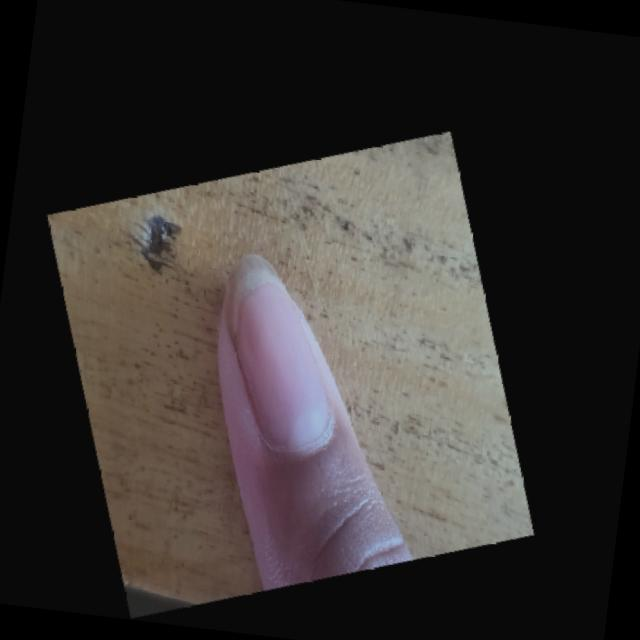Nail: (222, 254, 327, 448)
